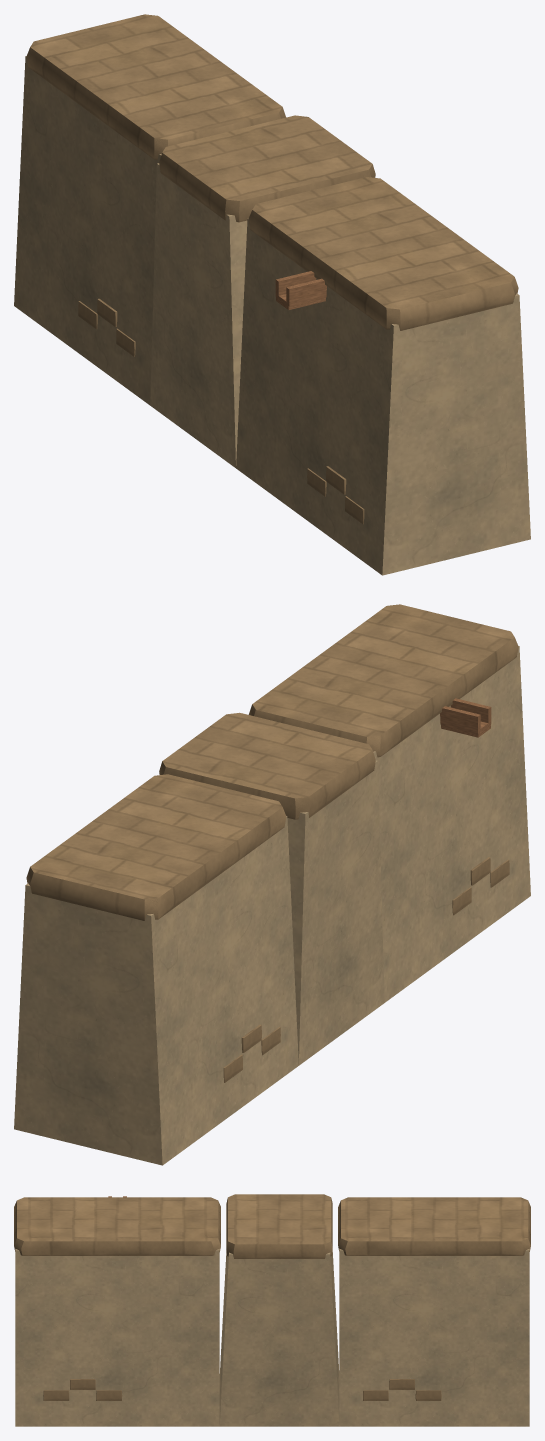
The model's file is cityWall.glb.
The picture shows the model from 3 angles, top to bottom: view 1: azimuth 30°, elevation 25°; view 2: azimuth 150°, elevation 25°; view 3: azimuth 270°, elevation 25°; orthographic projection. The views are drawn at different scales.
Visible parts, largest first — view 1: original-cityWall-warm-clay-plaster, original-cityWall-game-raw-brick-facing, workshop-cityWall-courtyard-fired; view 2: original-cityWall-warm-clay-plaster, original-cityWall-game-raw-brick-facing, workshop-cityWall-courtyard-fired; view 3: original-cityWall-warm-clay-plaster, original-cityWall-game-raw-brick-facing.
Boxes of the visible parts, x1,y1,x2,y2 form: original-cityWall-warm-clay-plaster: (14,56,530,575); original-cityWall-game-raw-brick-facing: (26,14,518,524); workshop-cityWall-courtyard-fired: (275,271,326,309); original-cityWall-warm-clay-plaster: (14,646,530,1165); original-cityWall-game-raw-brick-facing: (26,604,518,1082); workshop-cityWall-courtyard-fired: (440,698,491,737); original-cityWall-warm-clay-plaster: (15,1248,529,1426); original-cityWall-game-raw-brick-facing: (14,1194,530,1400).
Size of the model in its own units: 1.61 by 2.28 by 5.87.
3 materials, 3 textured.
